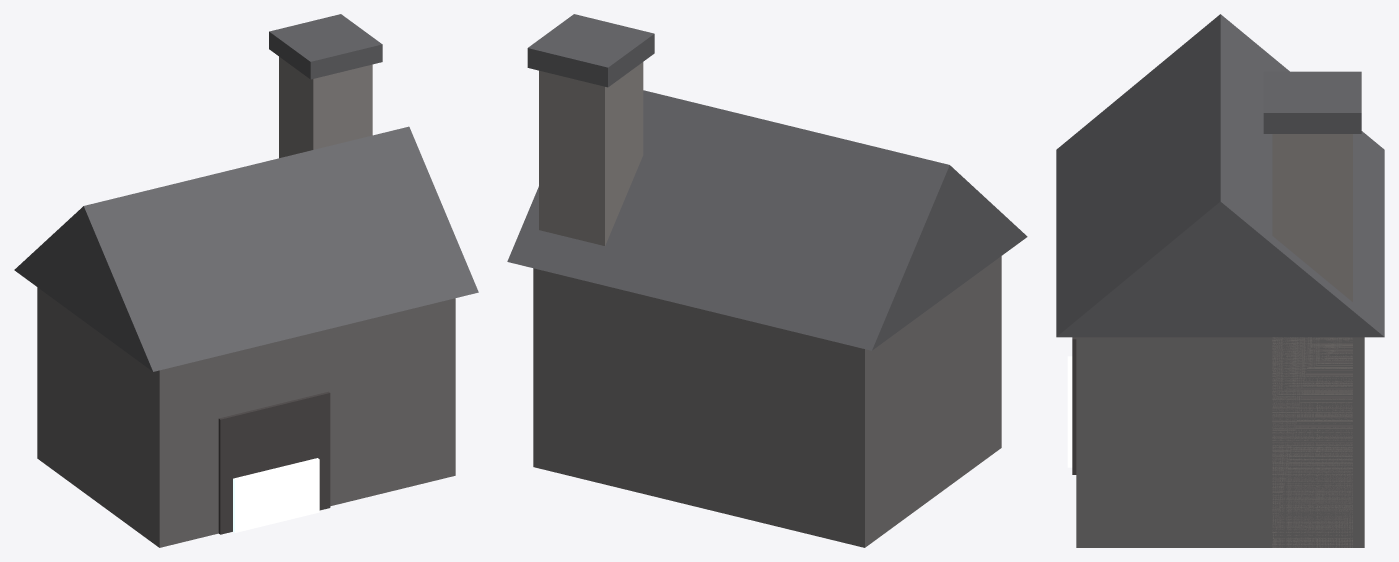
3 views of the same model, side by side, from view 1: azimuth 30°, elevation 25°; view 2: azimuth 150°, elevation 25°; view 3: azimuth 270°, elevation 25° (orthographic). The views are drawn at different scales.
Parts seen in each view (by area): view 1: body; view 2: body; view 3: body.
Boxes of the visible parts, x1=… form: body: x1=14, y1=14, x2=478, y2=547; body: x1=507, y1=14, x2=1027, y2=547; body: x1=1056, y1=14, x2=1384, y2=547.
Size of the model in its own units: 7.7 by 8.4 by 5.7.
